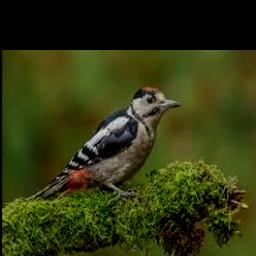Woodpecker: (27, 86, 181, 202)
